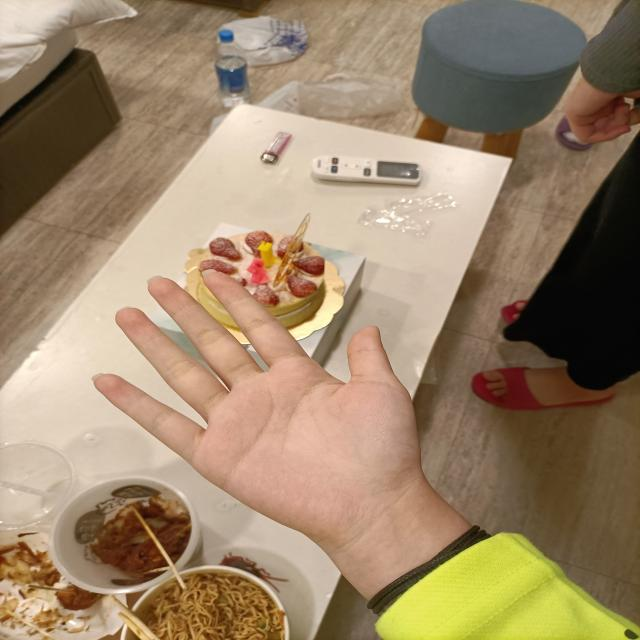no_glove: (80, 252, 441, 558)
